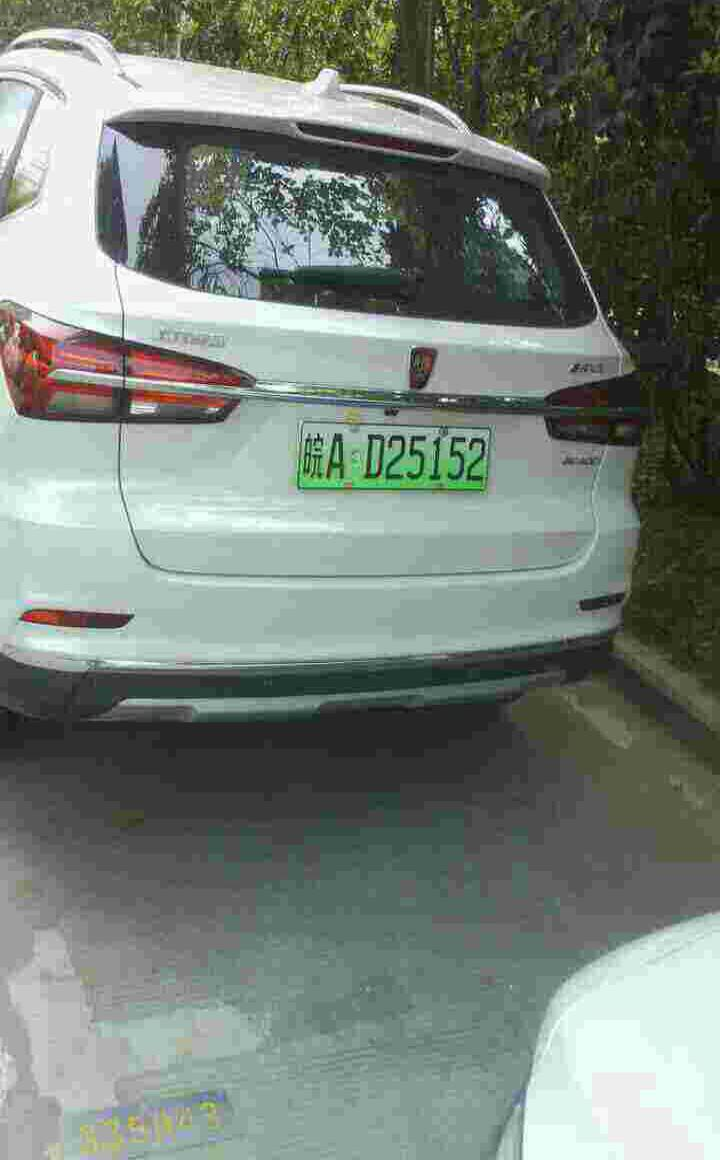car_green: (296, 415, 492, 494)
